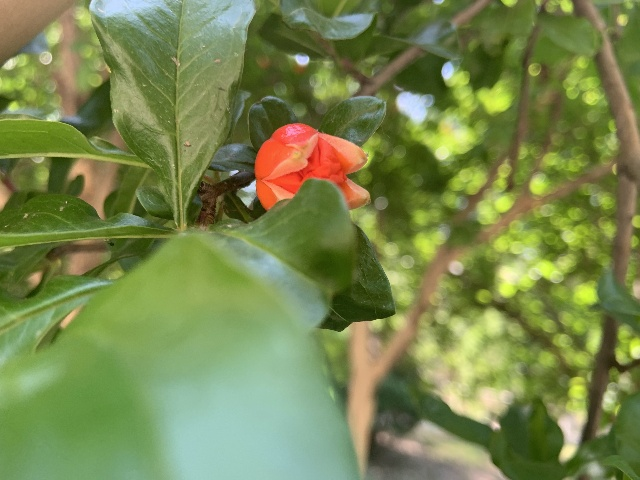flower: (254, 122, 369, 212)
